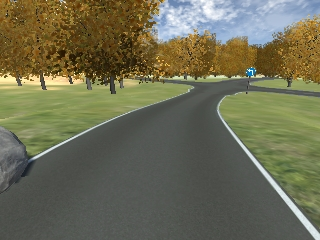left: (245, 68, 256, 76)
